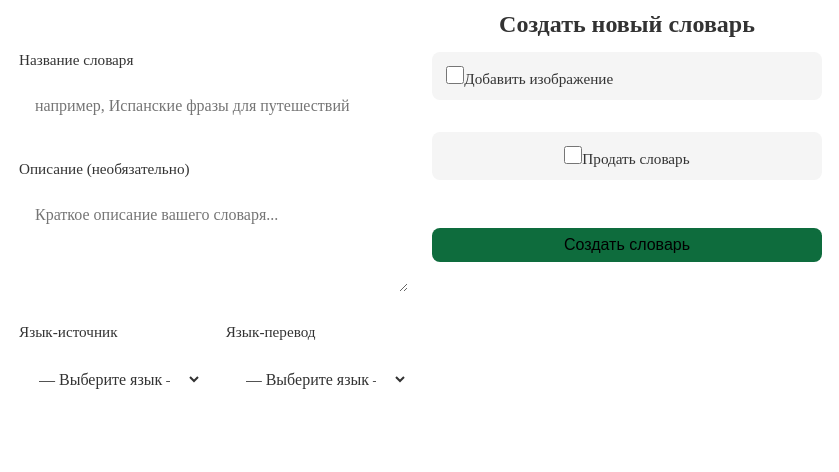
Test: AddDict Component › валидирует что языки должны отличаться
Select "Английский" in the dropdown labelled "Язык-источник" at (110, 379), box [19,356,202,403]
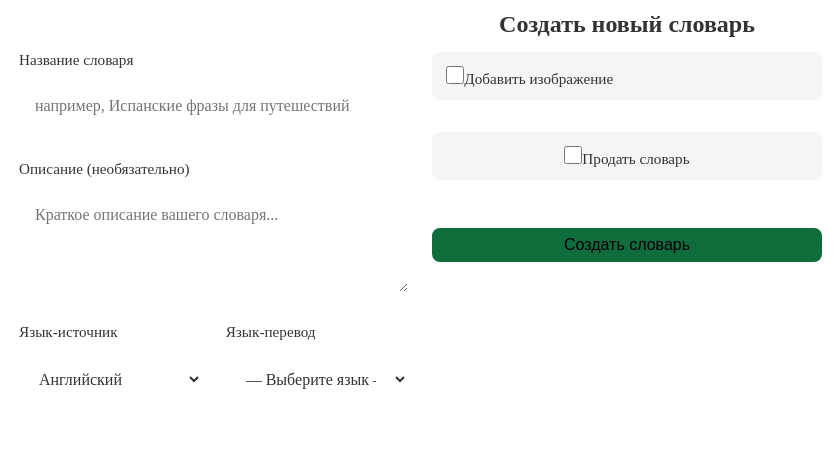
Select "Английский" in the dropdown labelled "Язык-перевод" at (317, 379), box [226,356,408,403]
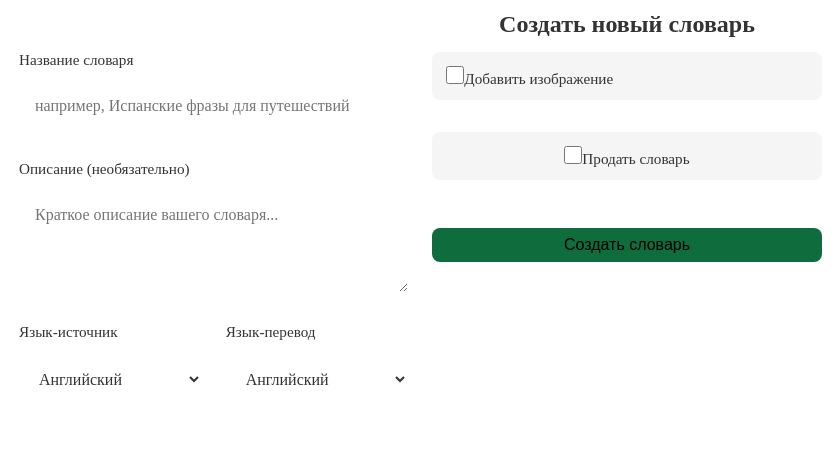
Click the button "Создать словарь" at (627, 245), box [432,228,822,262]
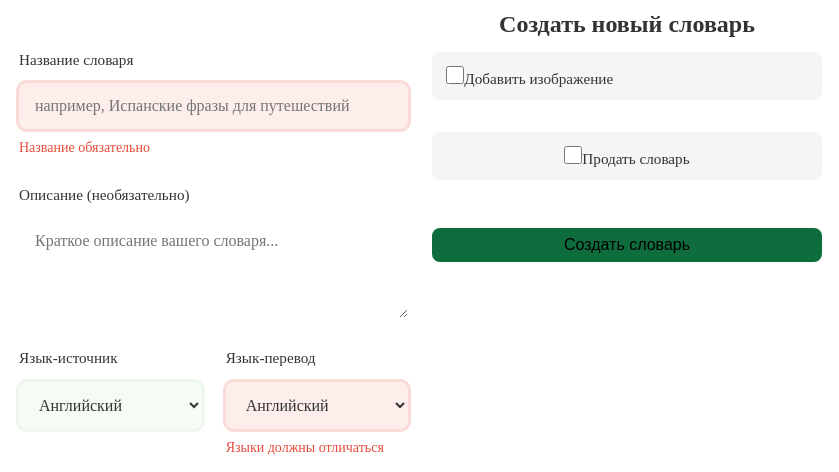
Now the text "Языки должны отличаться" is shown, box [226,441,408,455]
